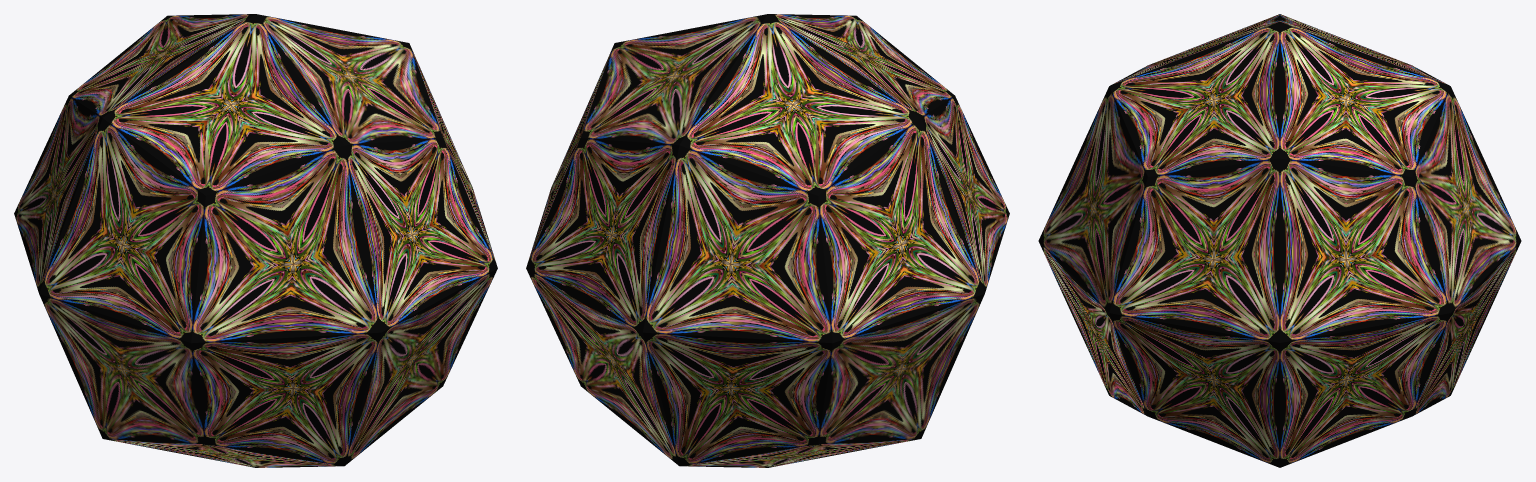
File: DeltoidalIcositetrahedron2.obj
The picture shows the model from 3 angles, left to right: view 1: azimuth 30°, elevation 25°; view 2: azimuth 150°, elevation 25°; view 3: azimuth 270°, elevation 25°; orthographic projection. The views are drawn at different scales.
Bounding box in the file's own units: 2.83 × 2.83 × 2.83.
Materials: 1 (1 with a texture image).
